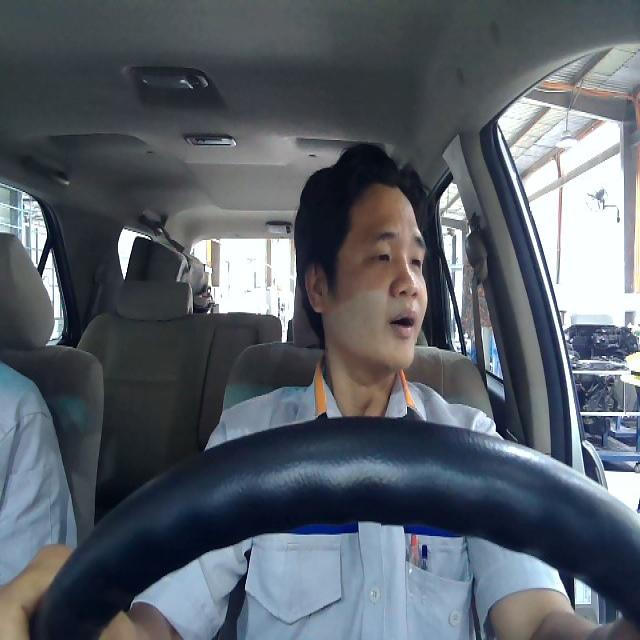yarning: (301, 181, 428, 368)
